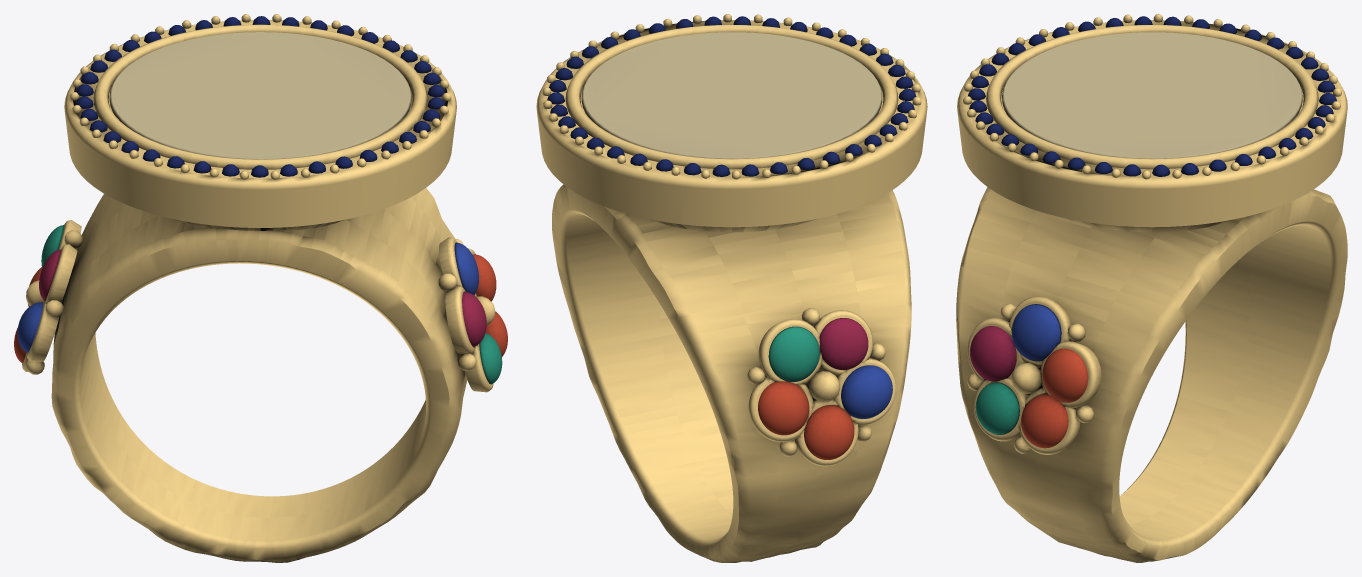
Rendered from ring.glb.
3 views of the same model, side by side, from view 1: azimuth 30°, elevation 25°; view 2: azimuth 150°, elevation 25°; view 3: azimuth 270°, elevation 25° (orthographic).
Parts seen in each view (by area): view 1: ring_gold, ring_coin_aged, ring_st_sapphire, ring_st_lapis, ring_st_garnet, ring_st_carnelian, ring_st_malachite; view 2: ring_gold, ring_coin_aged, ring_st_sapphire, ring_st_carnelian, ring_st_malachite, ring_st_lapis, ring_st_garnet; view 3: ring_gold, ring_coin_aged, ring_st_sapphire, ring_st_carnelian, ring_st_lapis, ring_st_garnet, ring_st_malachite.
Part boxes in pixels (x1,y1,x2,y2): ring_gold: [22, 14, 495, 562]; ring_coin_aged: [109, 32, 411, 159]; ring_st_sapphire: [76, 16, 445, 177]; ring_st_lapis: [17, 242, 478, 352]; ring_st_garnet: [39, 249, 486, 346]; ring_st_carnelian: [14, 254, 507, 363]; ring_st_malachite: [41, 225, 502, 384]; ring_gold: [536, 14, 927, 562]; ring_coin_aged: [581, 32, 882, 158]; ring_st_sapphire: [547, 16, 916, 176]; ring_st_carnelian: [758, 381, 854, 459]; ring_st_malachite: [768, 326, 819, 381]; ring_st_lapis: [841, 365, 892, 418]; ring_st_garnet: [819, 318, 868, 370]; ring_gold: [956, 14, 1347, 562]; ring_coin_aged: [1002, 32, 1302, 158]; ring_st_sapphire: [968, 16, 1336, 176]; ring_st_carnelian: [1021, 348, 1088, 448]; ring_st_lapis: [1011, 304, 1061, 361]; ring_st_garnet: [970, 326, 1016, 381]; ring_st_malachite: [975, 382, 1019, 434].
Size of the model in its own units: 2.4 by 2.66 by 2.08.
